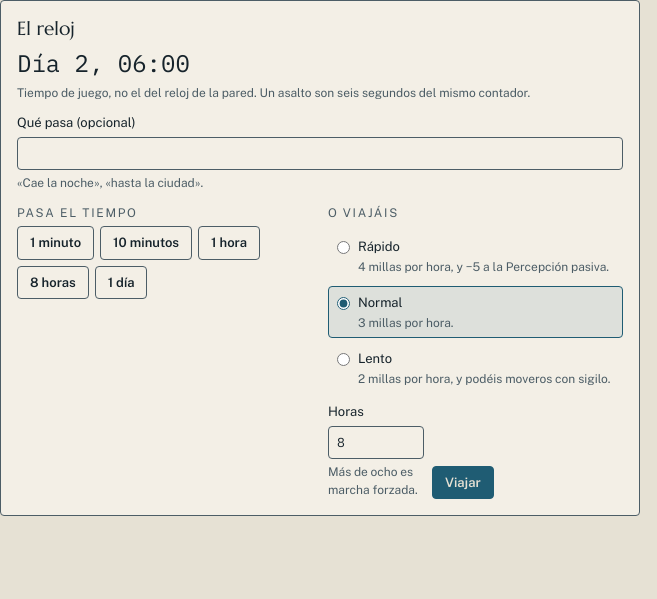
RelojDeCampana › viajar manda el ritmo y las horas, no una expresión de tiempo
Click the radio button labelled "Rápido 4 millas por hora, y −5 a la Percepción pasiva.": (344, 248) [337,241,350,254]
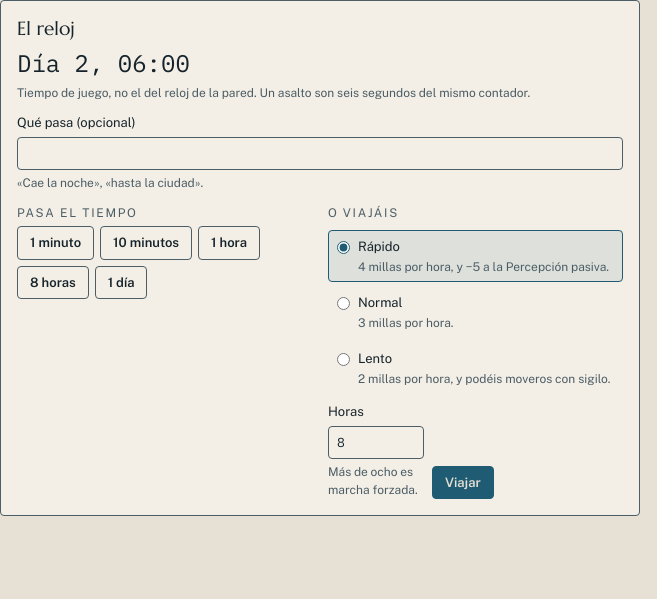
Click the button "Viajar": (463, 483) [432,466,494,499]
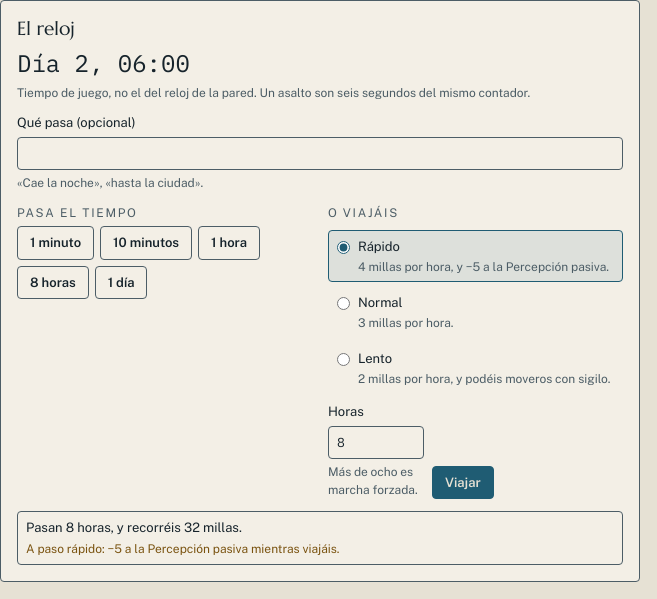
Check: the message shows "−5 a la Percepción pasiva", box [17,511,623,565]
